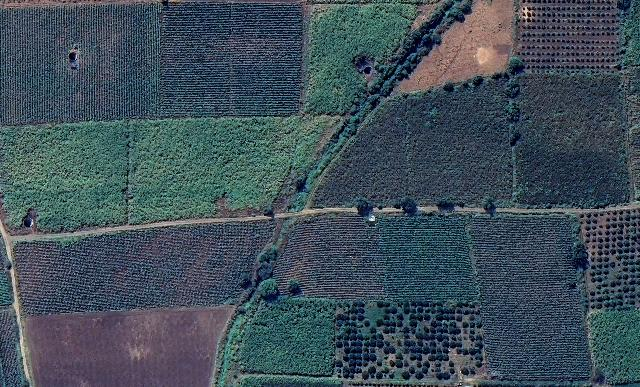DryFarms: (389, 0, 516, 96)
EmptyFarms: (22, 306, 233, 387)
Farms: (130, 4, 421, 223), (306, 73, 515, 206), (13, 220, 280, 315), (469, 214, 590, 379), (2, 1, 160, 124), (263, 216, 476, 302), (159, 3, 300, 117), (516, 73, 630, 208), (0, 120, 128, 232), (333, 299, 485, 379), (516, 0, 624, 70), (242, 299, 334, 378), (579, 208, 640, 316)
